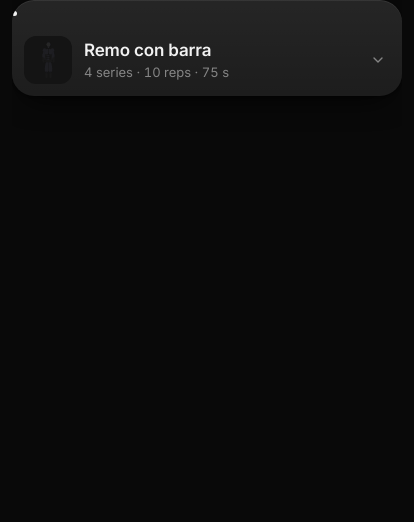
Test: fila del editor de rutina › «Fijo» deja una cifra con − / + y «Rango» la abre en «8-12»
Later steps or results of the test are not shown.
Click the button "Remo con barra 4 series · 10 reps · 75 s".
click(207, 60)  # box [12,24,402,96]
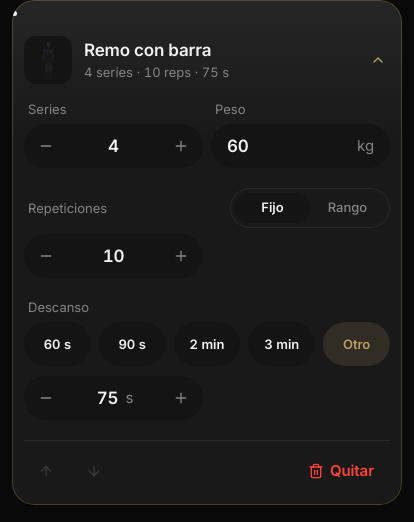
Now the field named "Repeticiones" holds "10", box [68,234,159,278]
